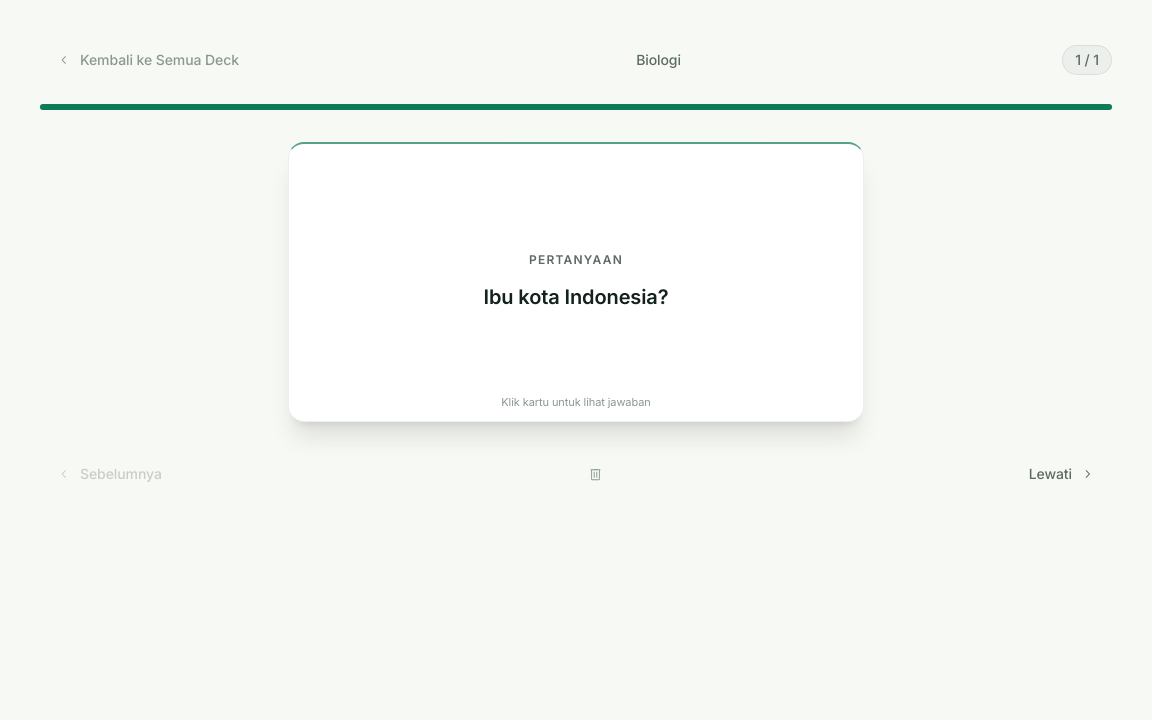
Test case: FlashcardSession delete card › membuka dialog konfirmasi tanpa ReferenceError toast
The width and height of the screenshot is (1152, 720).
Click the button named "Hapus kartu ini" at (595, 474), box [580,458,611,490]
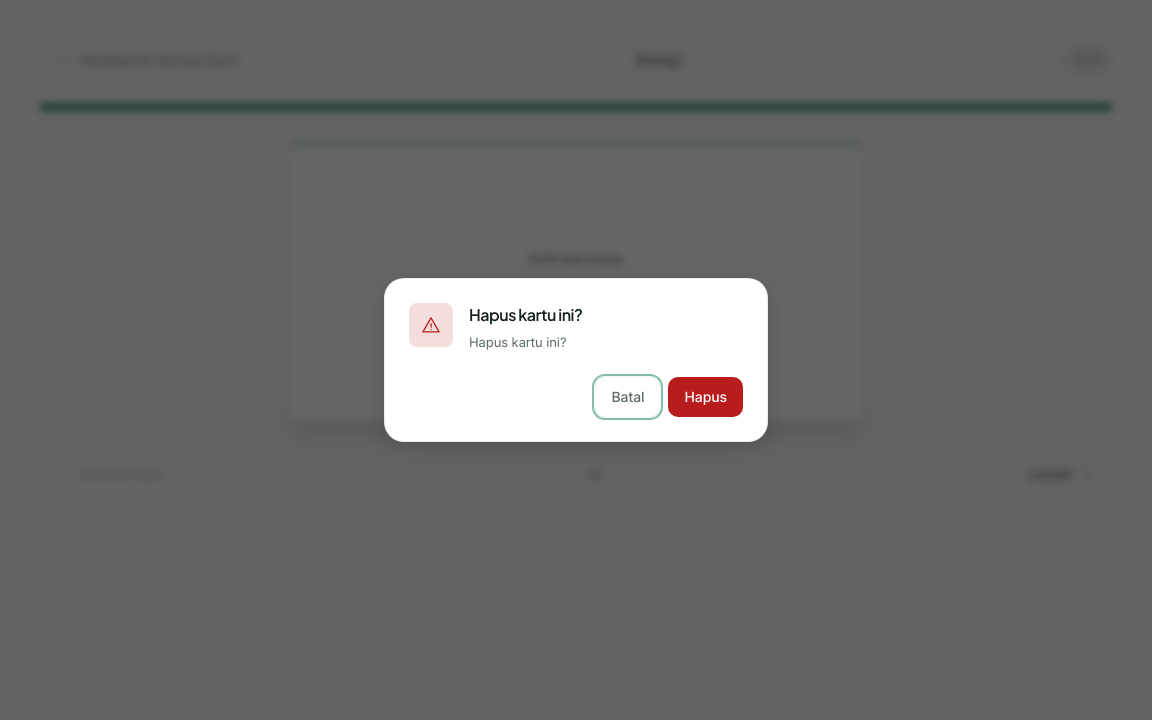
expect the heading "Hapus kartu ini?" is shown: met, box [469,304,582,325]
